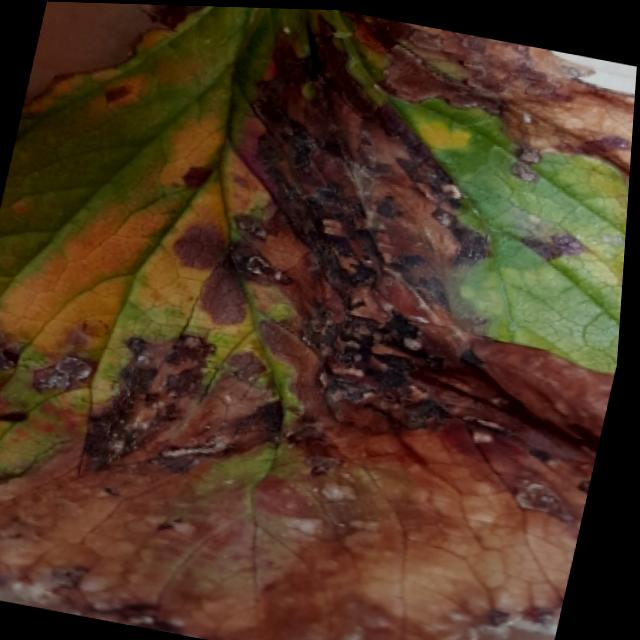Angular Leafspot: (0, 3, 636, 640)
